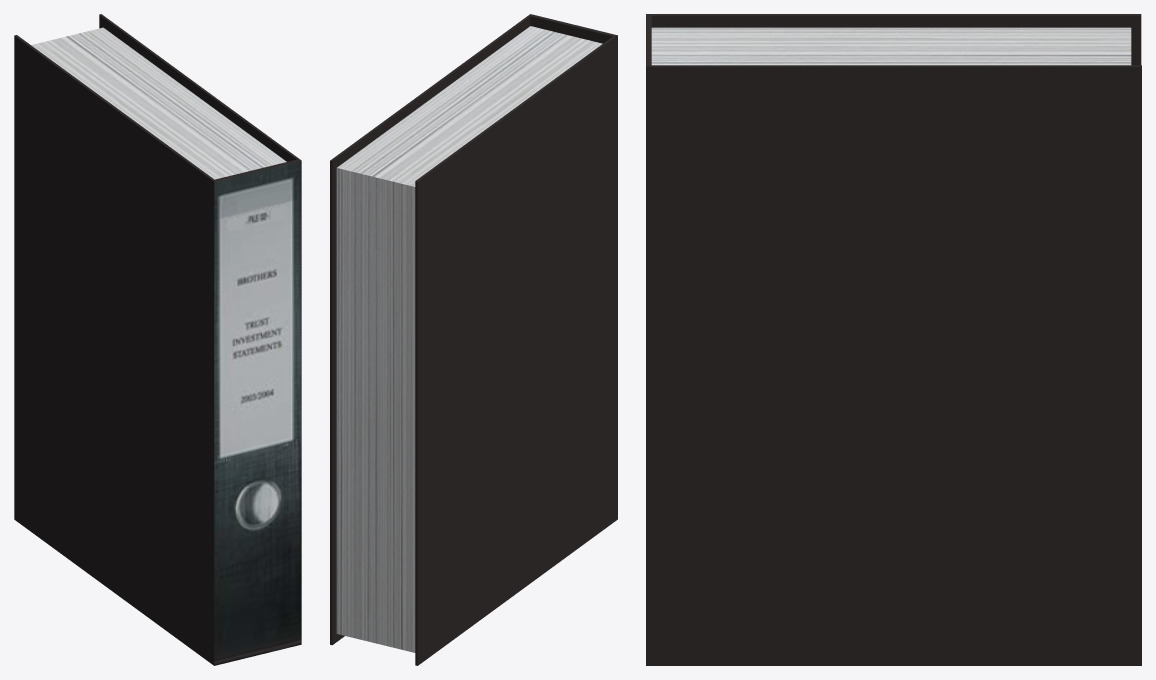
3 renders of one model, left to right at view 1: azimuth 30°, elevation 25°; view 2: azimuth 150°, elevation 25°; view 3: azimuth 270°, elevation 25°, orthographic. The views are drawn at different scales.
Parts seen in each view (by area): view 1: File 1; view 2: File 1; view 3: File 1.
Boxes of the visible parts, x1,y1,x2,y2 form: File 1: (14,14,301,665); File 1: (330,14,617,665); File 1: (646,14,1141,665).
Bounding box in the file's own units: 6.46 × 34.2 × 25.64.
Materials: 1 (1 with a texture image).
